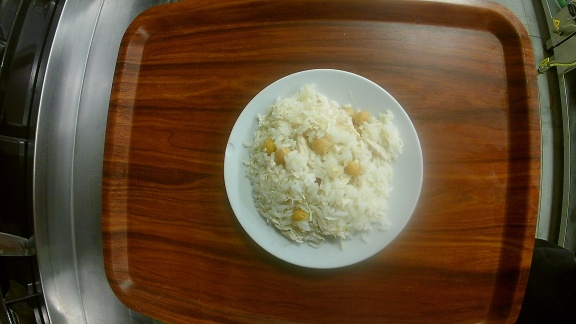nohutlupilav: (223, 68, 425, 268)
